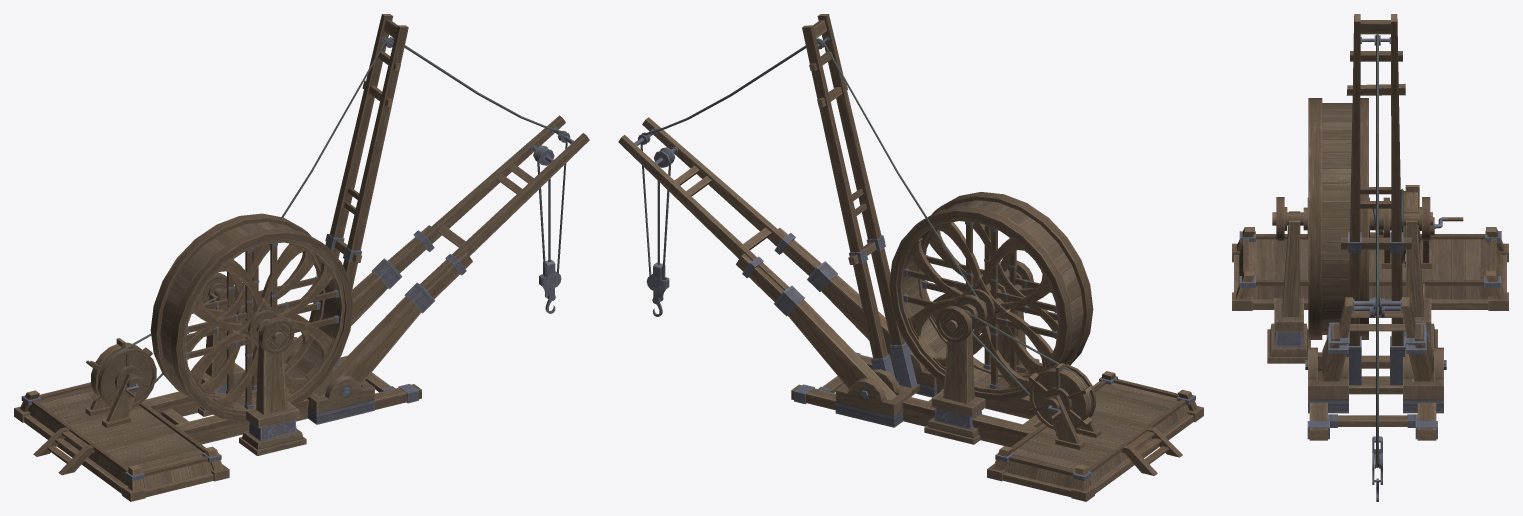
File: Homeworld_Exterior_Xm_Build_Qizhongji_01_Lod0.fbx
3 views of the same model, side by side, from view 1: azimuth 30°, elevation 25°; view 2: azimuth 150°, elevation 25°; view 3: azimuth 270°, elevation 25° (orthographic). The views are drawn at different scales.
Parts seen in each view (by area): view 1: Area_Xm_Build_Common_Qizhongji_01_Lod0; view 2: Area_Xm_Build_Common_Qizhongji_01_Lod0; view 3: Area_Xm_Build_Common_Qizhongji_01_Lod0.
Boxes of the visible parts, x1,y1,x2,y2 form: Area_Xm_Build_Common_Qizhongji_01_Lod0: (14,14,589,501); Area_Xm_Build_Common_Qizhongji_01_Lod0: (618,14,1203,501); Area_Xm_Build_Common_Qizhongji_01_Lod0: (1232,14,1508,501).
Size of what is drawn, in the model's own units: 20.22 by 13.05 by 7.69.
